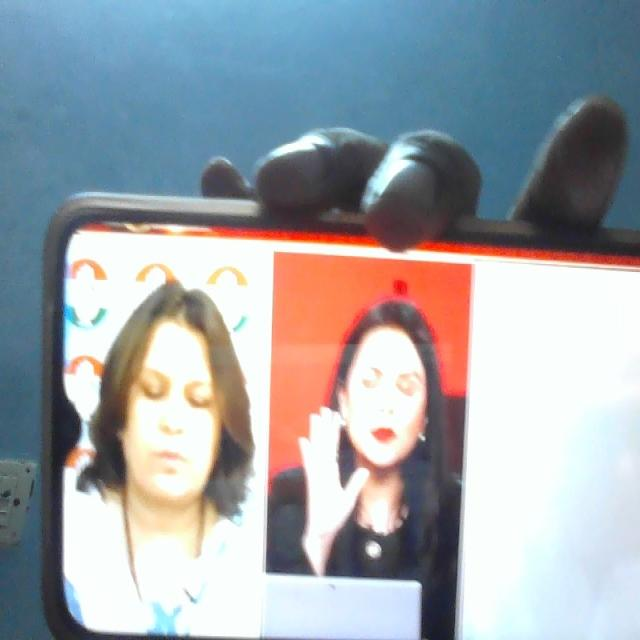fake: (106, 275, 232, 512)
